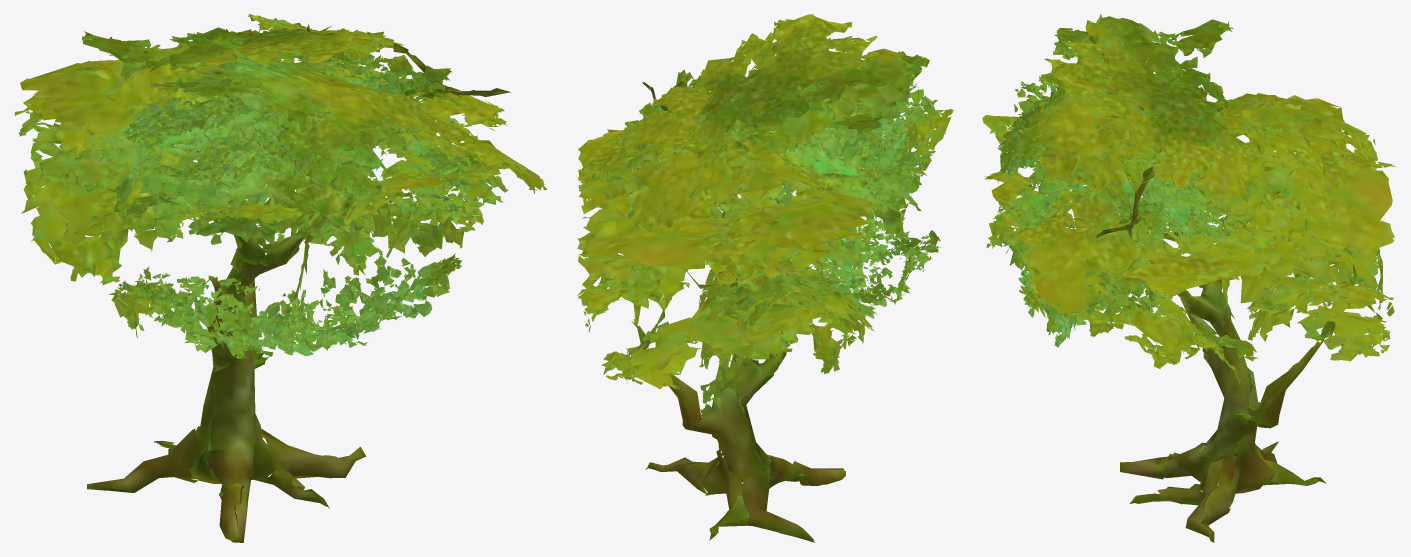
File: newforesttree.glb
3 views of the same model, side by side, from view 1: azimuth 30°, elevation 25°; view 2: azimuth 150°, elevation 25°; view 3: azimuth 270°, elevation 25° (orthographic). The views are drawn at different scales.
Visible parts, largest first — view 1: Mesh_0; view 2: Mesh_0; view 3: Mesh_0.
Boxes of the visible parts, bbox=[...] form: Mesh_0: bbox=[14, 14, 547, 542]; Mesh_0: bbox=[577, 14, 953, 542]; Mesh_0: bbox=[982, 14, 1396, 542].
Size of the model in its own units: 1.27 by 1.5 by 1.3.
1 material, 1 textured.
